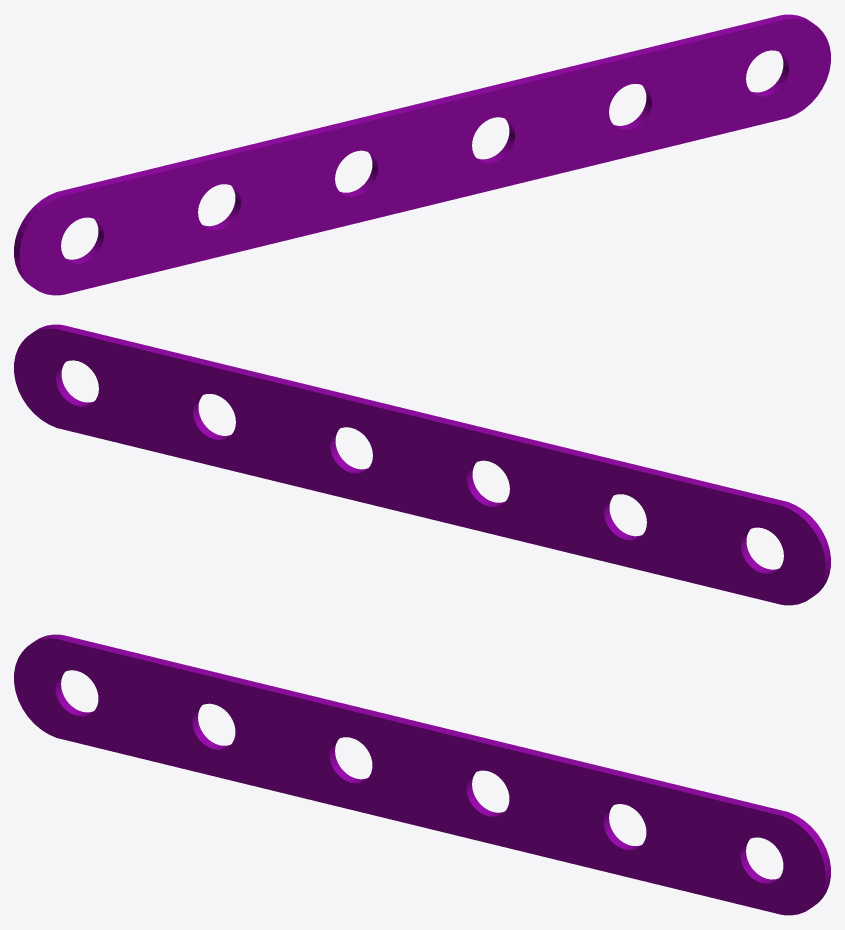
Rendered from ThanhThang_6_KimLoai_Tim.glb.
3 renders of one model, top to bottom at view 1: azimuth 30°, elevation 25°; view 2: azimuth 150°, elevation 25°; view 3: azimuth 330°, elevation 25°, orthographic.
Visible parts, largest first — view 1: defaultobject; view 2: defaultobject; view 3: defaultobject.
Part boxes in pixels (x1,y1,x2,y2): defaultobject: (14, 14, 830, 295); defaultobject: (14, 324, 830, 605); defaultobject: (14, 634, 830, 915).
Size of the model in its own units: 188 by 21.91 by 2.24.
